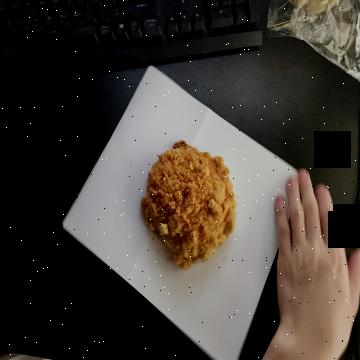soboru_bread: (140, 133, 241, 275)
